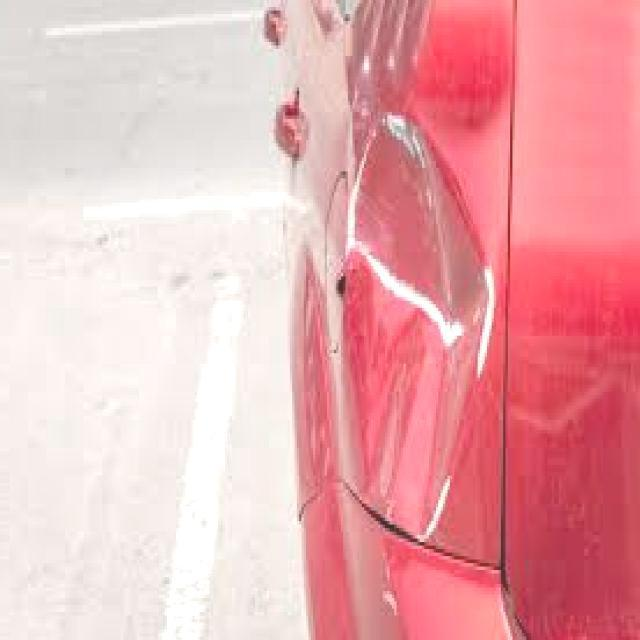minor: (383, 579, 401, 633)
moderate: (327, 97, 502, 548)
